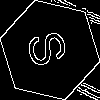S: (25, 25, 78, 70)
